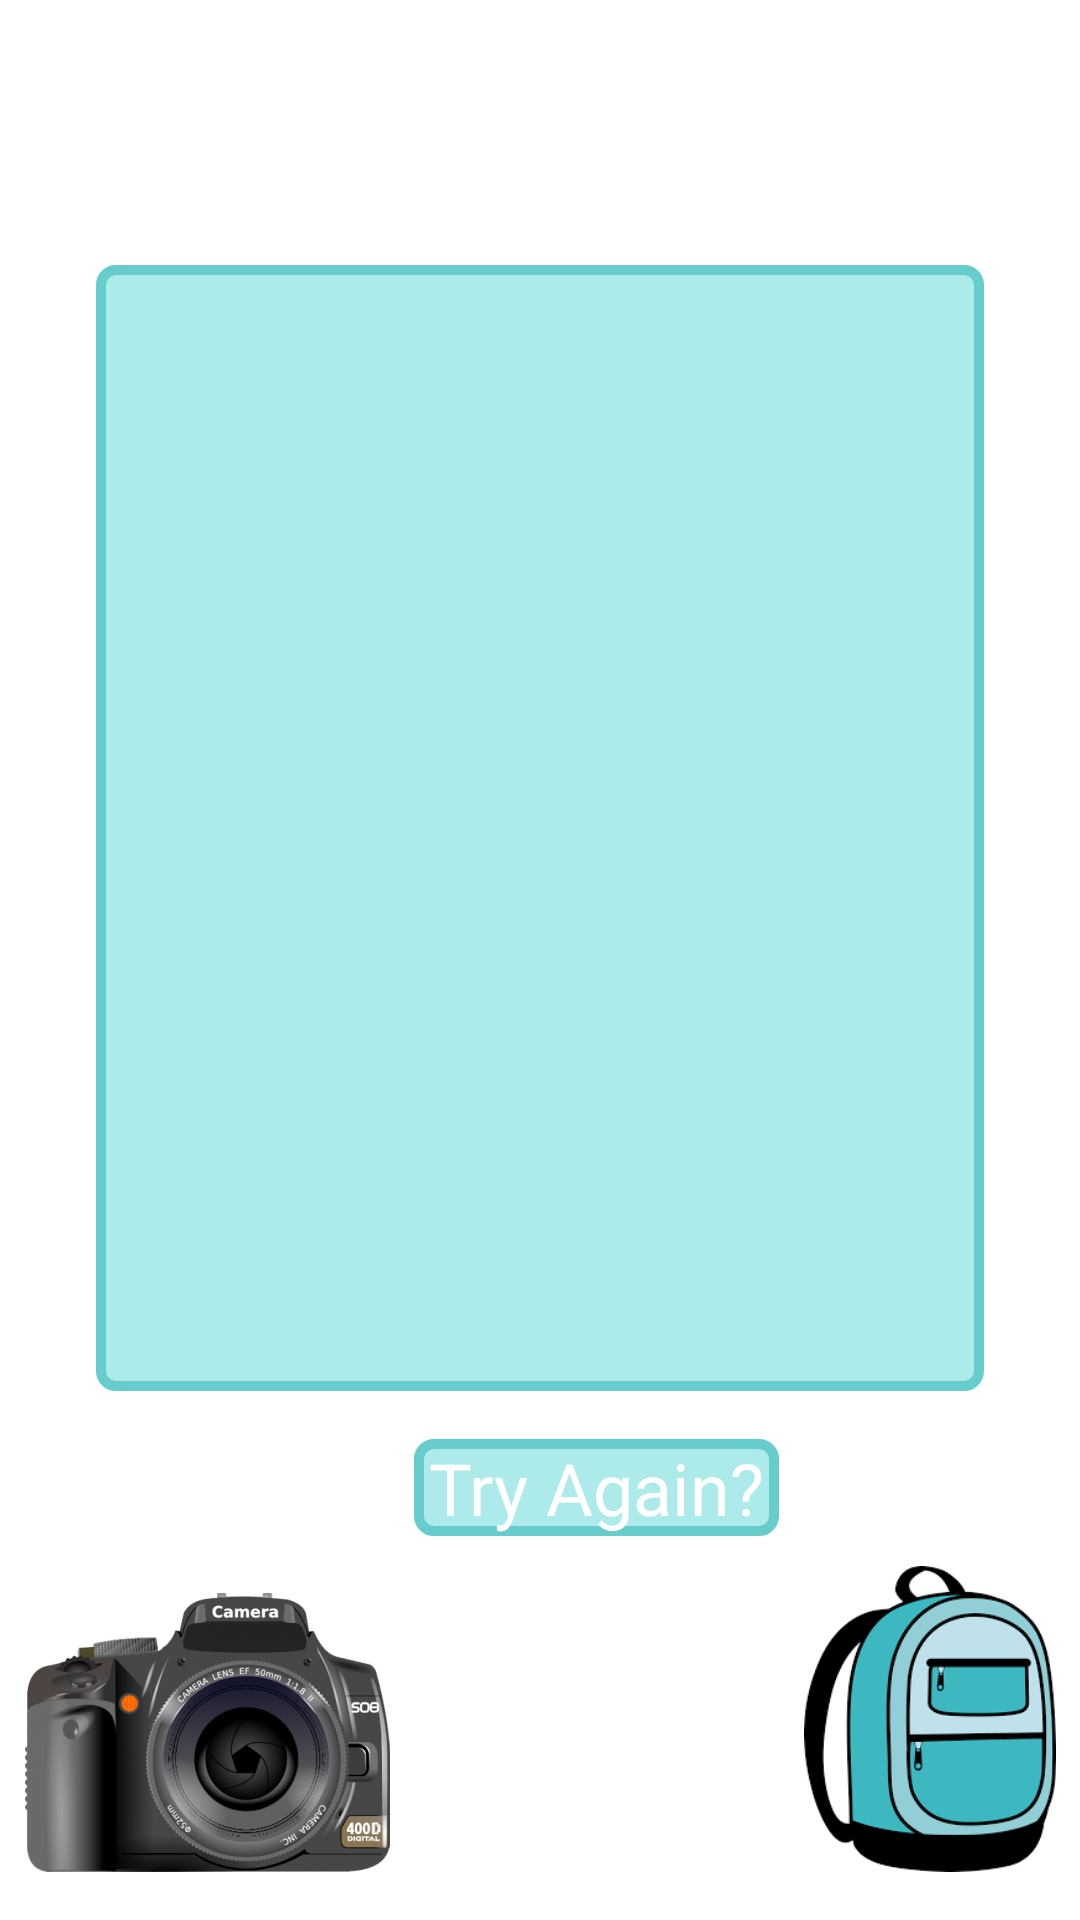

Point at icon controls on the screen. Image size 1080 × 1920, points as (x,y).
backpack: (930,1719)
